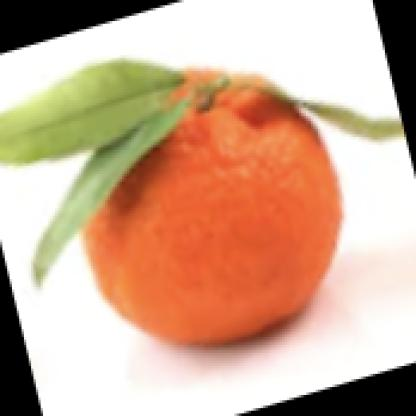fresh: (90, 69, 339, 347)
